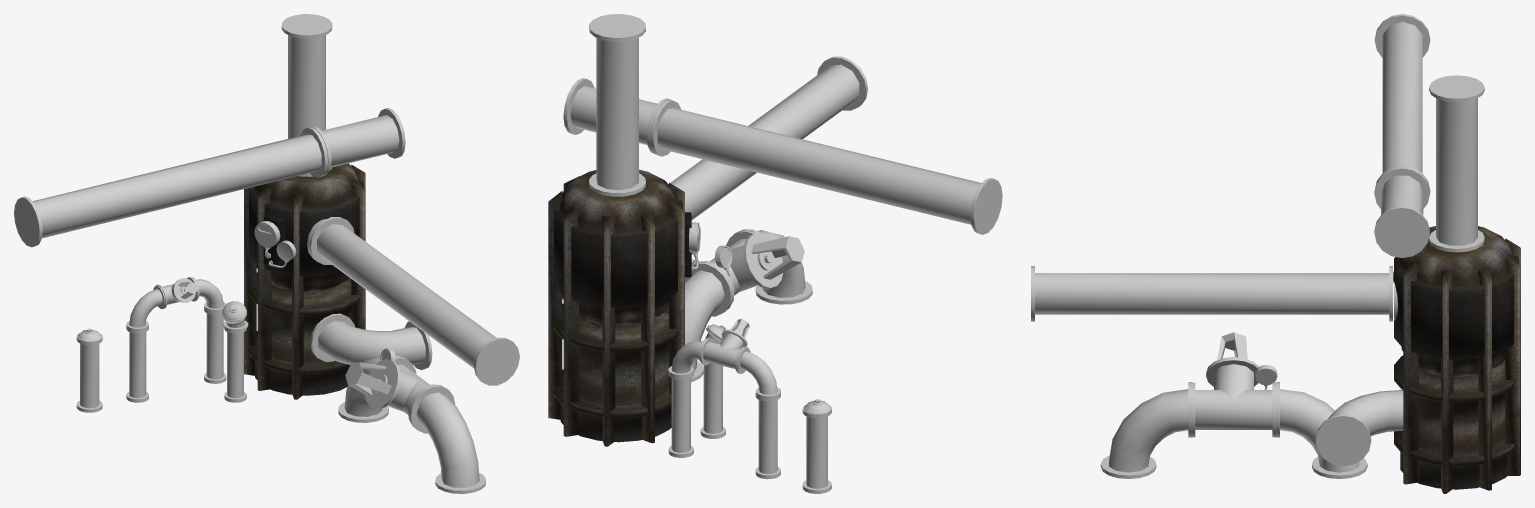
The model's file is compressor_broken02.dae.
3 views of the same model, side by side, from view 1: azimuth 30°, elevation 25°; view 2: azimuth 150°, elevation 25°; view 3: azimuth 270°, elevation 25° (orthographic). The views are drawn at different scales.
Parts seen in each view (by area): view 1: Box363, Box362, Box364, Box365, Box366; view 2: Box363, Box362, Box364, Box365; view 3: Box363, Box362, Box364.
Boxes of the visible parts, x1,y1,x2,y2 form: Box363: (33,35,495,487); Box362: (244,163,365,399); Box364: (14,14,519,493); Box365: (254,221,395,361); Box366: (77,301,246,341); Box363: (570,37,981,488); Box362: (548,169,691,446); Box364: (563,14,1002,493); Box365: (689,222,732,276); Box363: (1035,22,1477,472); Box362: (1394,226,1520,493); Box364: (1031,14,1484,478).
Bounding box in the file's own units: 5.42 × 4.94 × 5.78.
